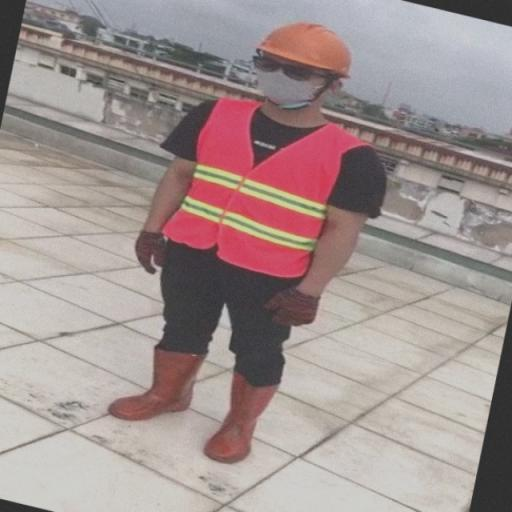Person: (79, 0, 445, 486)
boots: (196, 363, 302, 466), (104, 340, 212, 422)
gloves: (256, 280, 322, 332), (125, 226, 172, 278)
goggles: (247, 48, 345, 86)
helmet: (252, 15, 358, 79)
vest: (151, 92, 378, 277)
